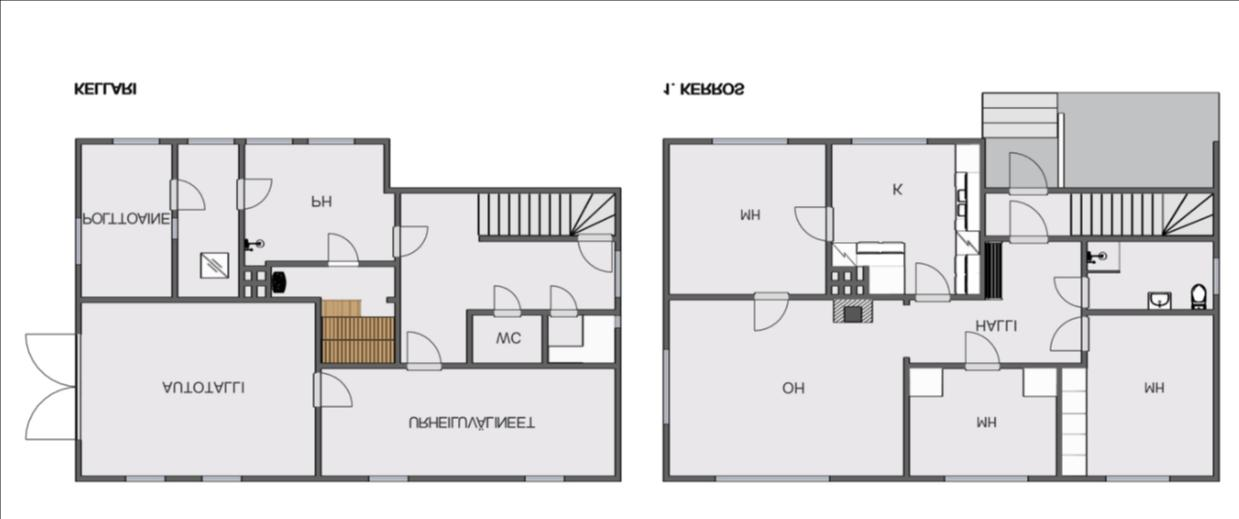door: (20, 385, 86, 444), (20, 330, 84, 389), (1004, 198, 1048, 246), (1008, 150, 1050, 197), (790, 202, 836, 244), (402, 328, 442, 374), (1048, 314, 1092, 354), (308, 372, 356, 408), (232, 172, 274, 212), (576, 232, 616, 274), (963, 330, 1003, 372), (751, 290, 790, 333), (325, 228, 363, 268), (390, 223, 430, 260), (487, 281, 523, 322), (166, 178, 206, 212), (1050, 276, 1090, 310), (548, 284, 582, 318)
window: (707, 471, 835, 485), (705, 133, 792, 148), (938, 471, 1038, 484), (660, 342, 674, 429), (844, 135, 934, 147), (1097, 472, 1177, 485), (300, 133, 360, 148), (243, 133, 299, 149), (108, 133, 167, 148), (182, 135, 238, 150), (70, 212, 84, 268), (1208, 253, 1224, 299), (518, 472, 572, 484), (122, 472, 168, 486), (613, 242, 623, 302), (198, 472, 244, 485), (362, 472, 412, 481), (610, 312, 624, 330)
